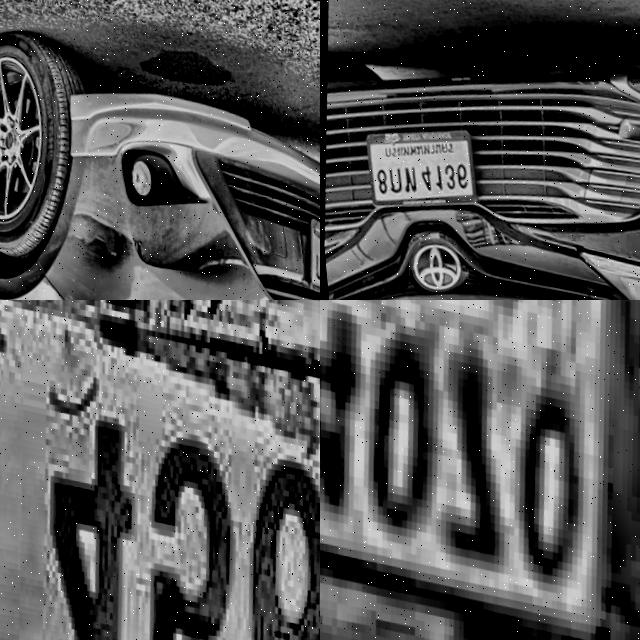license-plate: (0, 300, 320, 640), (320, 300, 640, 640), (349, 99, 483, 228), (290, 193, 320, 299)
